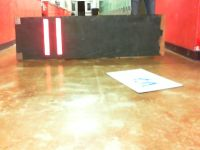switch: (55, 18, 63, 55), (43, 19, 50, 56)
